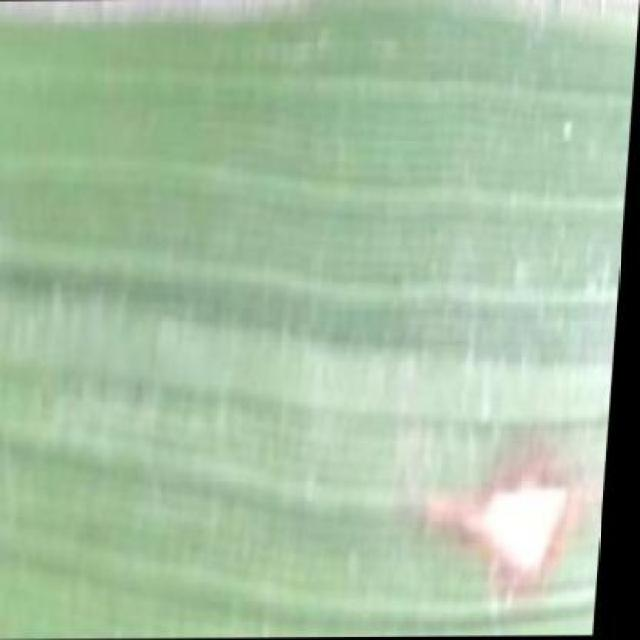Bacterial_Leaf_Blight: (379, 440, 590, 602), (437, 0, 636, 18)
